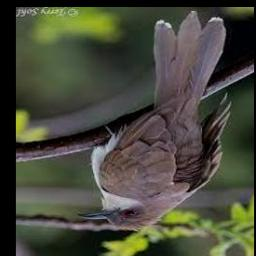Cuckoo: (78, 13, 233, 231)
